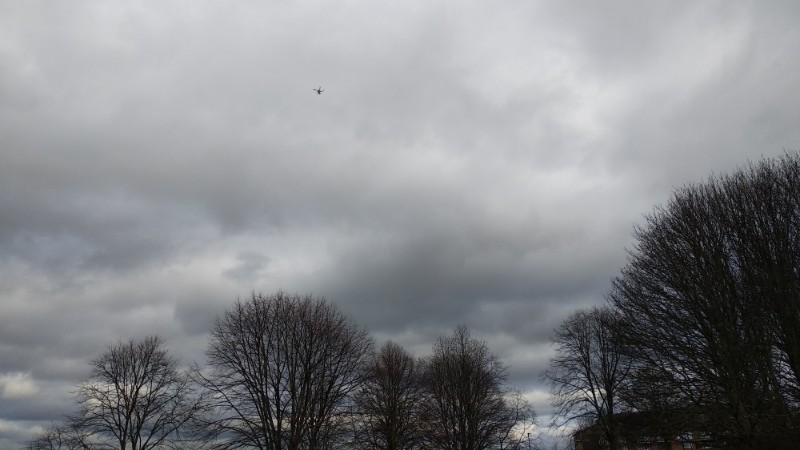drone: (312, 86, 326, 95)
